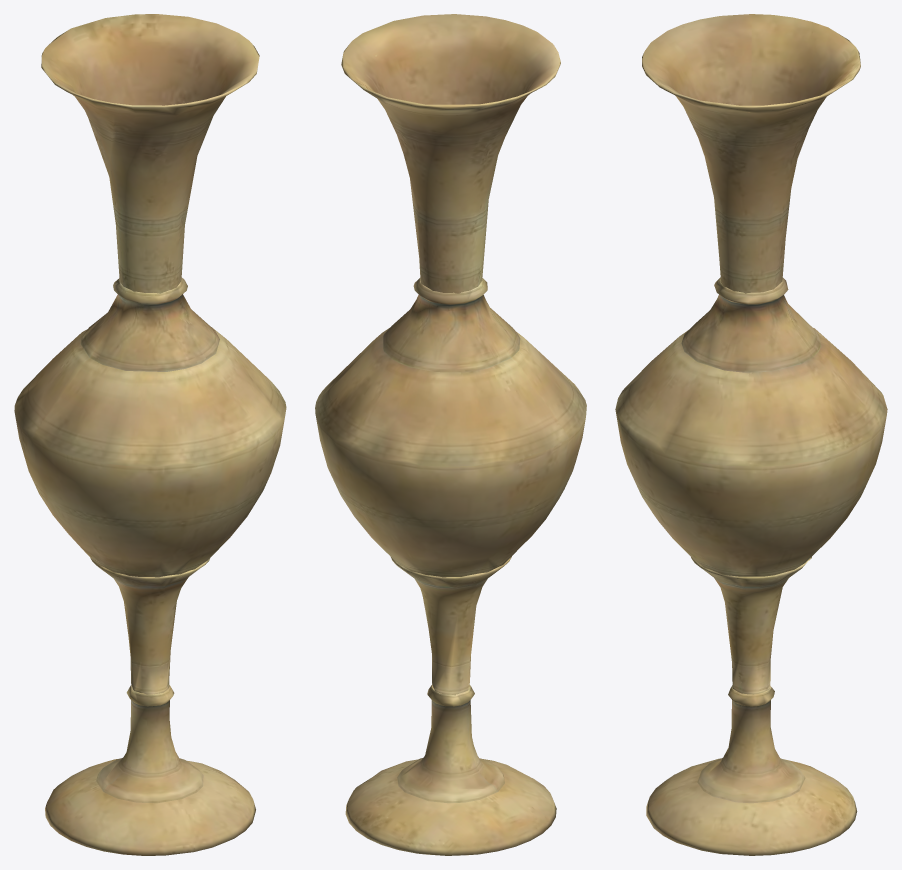
The model's file is brass_vase_01.glb.
The picture shows the model from 3 angles, left to right: view 1: azimuth 30°, elevation 25°; view 2: azimuth 150°, elevation 25°; view 3: azimuth 270°, elevation 25°; orthographic projection.
Parts seen in each view (by area): view 1: brass_vase_01; view 2: brass_vase_01; view 3: brass_vase_01.
Boxes of the visible parts, x1,y1,x2,y2 form: brass_vase_01: (14, 14, 286, 855); brass_vase_01: (315, 14, 586, 855); brass_vase_01: (615, 14, 887, 855).
Bounding box in the file's own units: 0.2267 × 0.6925 × 0.2273.
Materials: 1 (1 with a texture image).
